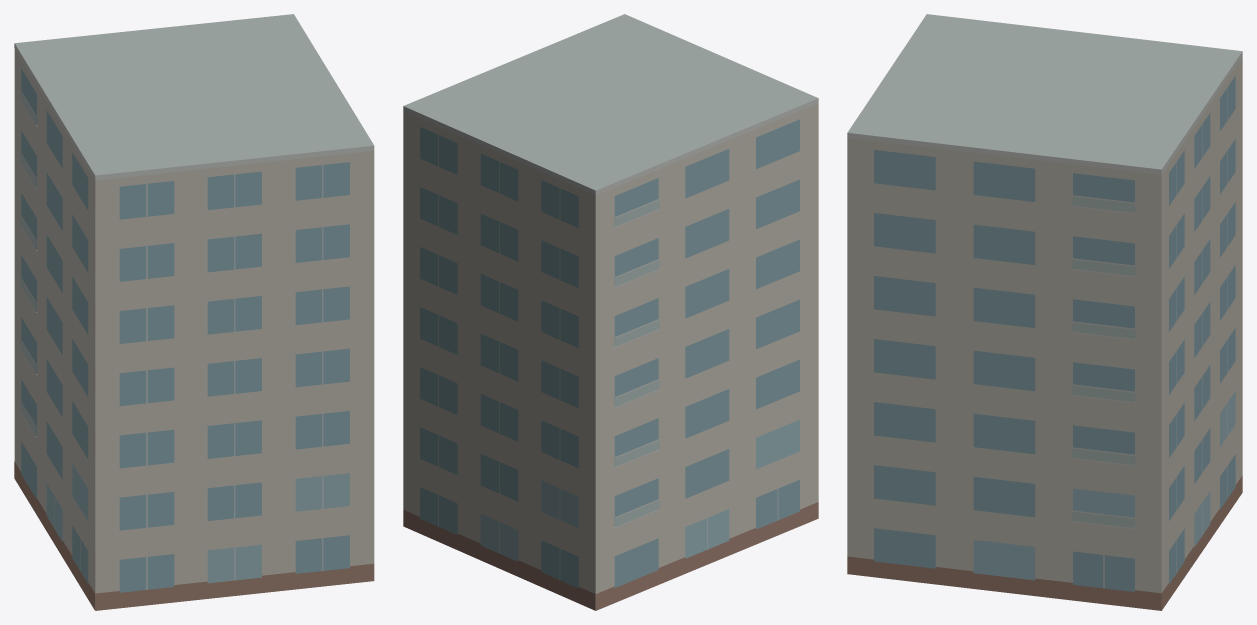
The model's file is survey-upis-32962050.glb.
3 views of the same model, side by side, from view 1: azimuth 30°, elevation 25°; view 2: azimuth 150°, elevation 25°; view 3: azimuth 270°, elevation 25° (orthographic). The views are drawn at different scales.
Parts seen in each view (by area): view 1: survey-upis-32962050.tmp; view 2: survey-upis-32962050.tmp; view 3: survey-upis-32962050.tmp.
Part boxes in pixels (x1=…): survey-upis-32962050.tmp: x1=14, y1=14, x2=374, y2=610; survey-upis-32962050.tmp: x1=403, y1=14, x2=818, y2=610; survey-upis-32962050.tmp: x1=847, y1=14, x2=1242, y2=610.
Size of the model in its own units: 16 by 21.15 by 17.18.
